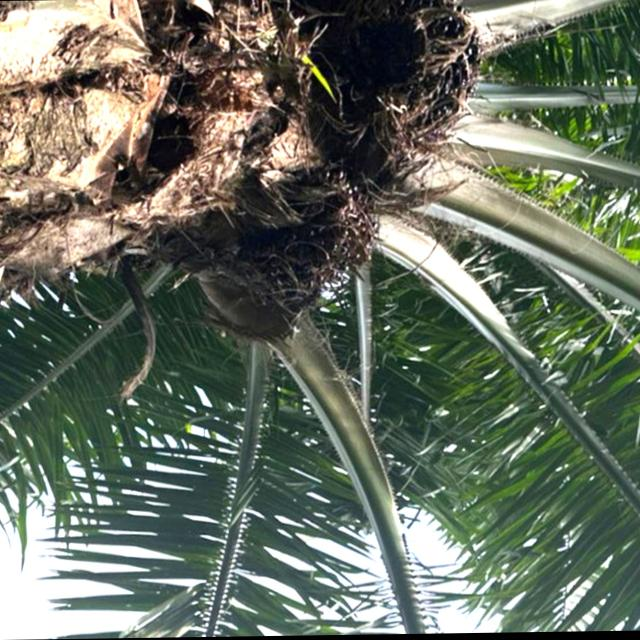ripe: (232, 160, 396, 320)
